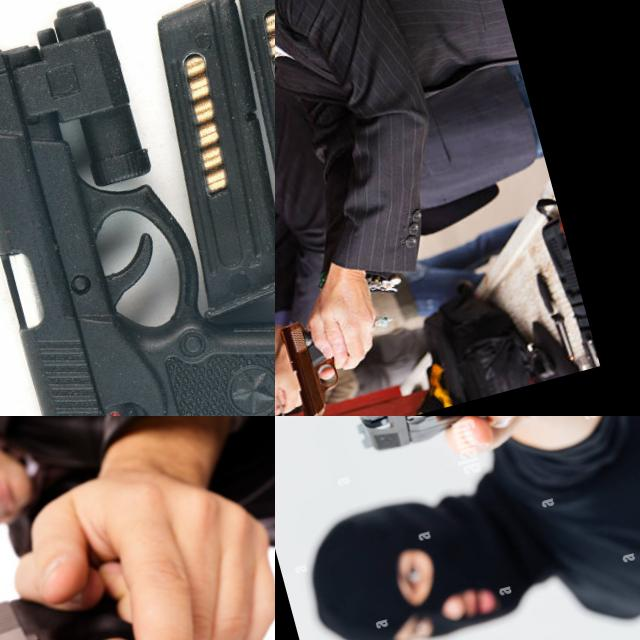handgun: (0, 0, 275, 416), (319, 416, 599, 508), (0, 561, 185, 640), (275, 305, 367, 416), (275, 361, 309, 416)
